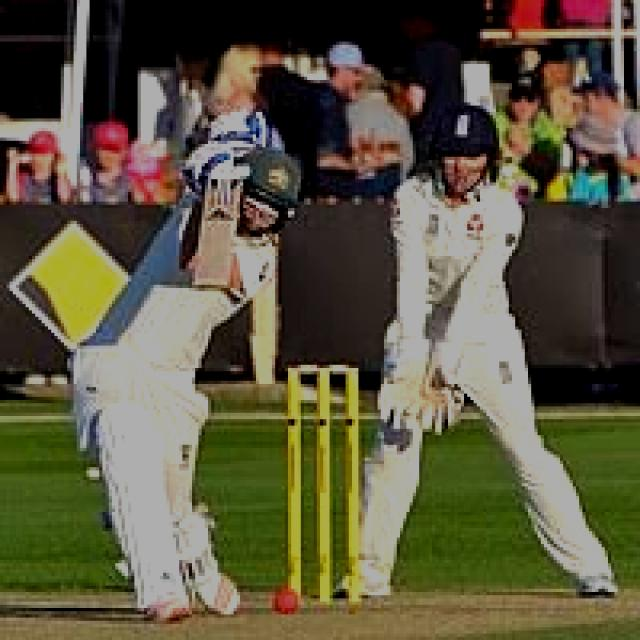toe: (195, 264, 242, 297)
